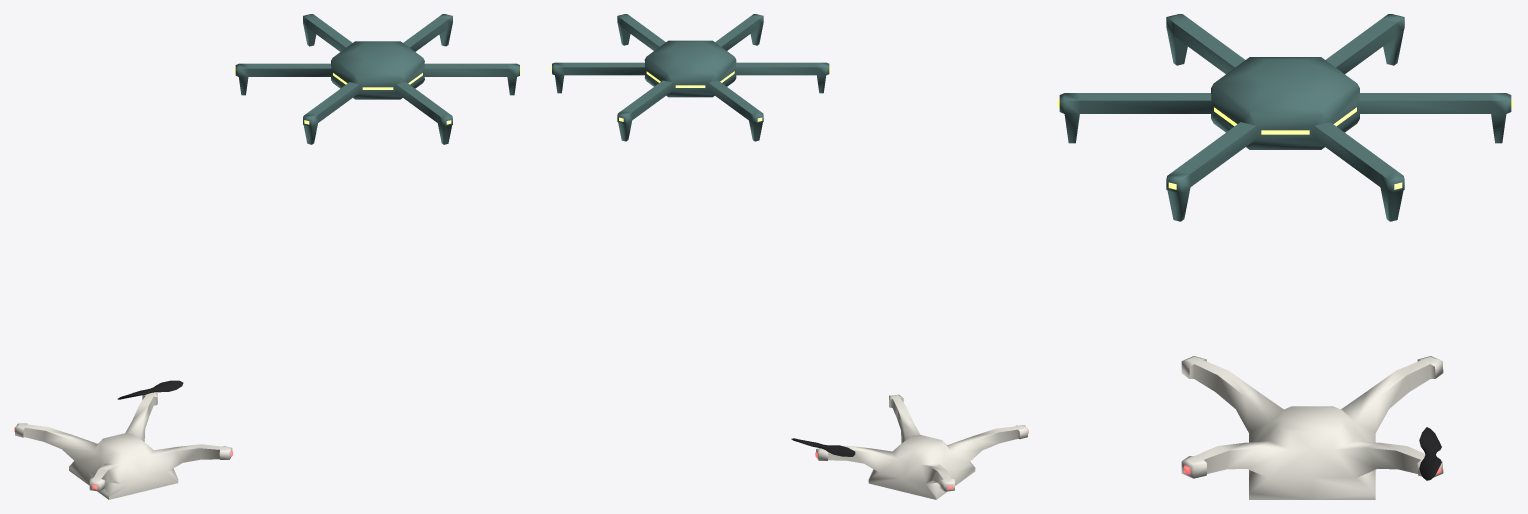
3 views of the same model, side by side, from view 1: azimuth 30°, elevation 25°; view 2: azimuth 150°, elevation 25°; view 3: azimuth 270°, elevation 25° (orthographic). The views are drawn at different scales.
Parts seen in each view (by area): view 1: Drone2, Drone1; view 2: Drone2, Drone1; view 3: Drone2, Drone1, Blade.
Part boxes in pixels (box(x1,y1,x2,y2)): Drone2: box(234, 14, 521, 144); Drone1: box(14, 392, 232, 499); Drone2: box(550, 14, 830, 141); Drone1: box(815, 394, 1028, 499); Drone2: box(1057, 14, 1513, 221); Drone1: box(1181, 356, 1443, 499); Blade: box(1419, 427, 1441, 480).
Bounding box in the file's own units: 12.31 × 10.28 × 7.21.
1 material, 1 textured.
